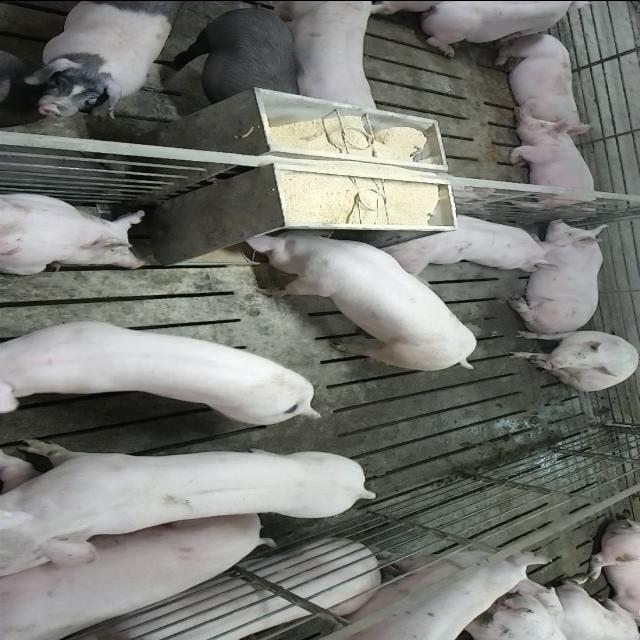Feeding: (238, 229, 478, 375)
Lateral_lying: (0, 518, 271, 640)
Sitting: (506, 328, 638, 390)
Standing: (4, 435, 384, 562), (5, 314, 329, 424), (304, 550, 548, 640), (23, 2, 175, 122), (158, 5, 302, 114), (272, 2, 384, 118)
Sternal_lying: (0, 191, 150, 274), (378, 209, 564, 271), (508, 220, 611, 326), (417, 3, 606, 57), (491, 29, 589, 131), (506, 117, 604, 215)
